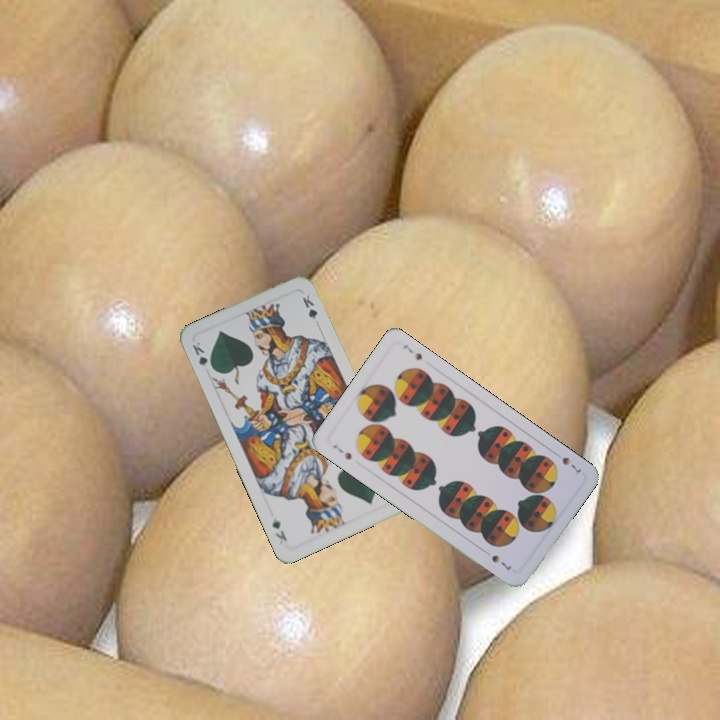GK: (188, 338, 216, 373)
S7: (558, 453, 584, 476), (329, 440, 354, 462)
